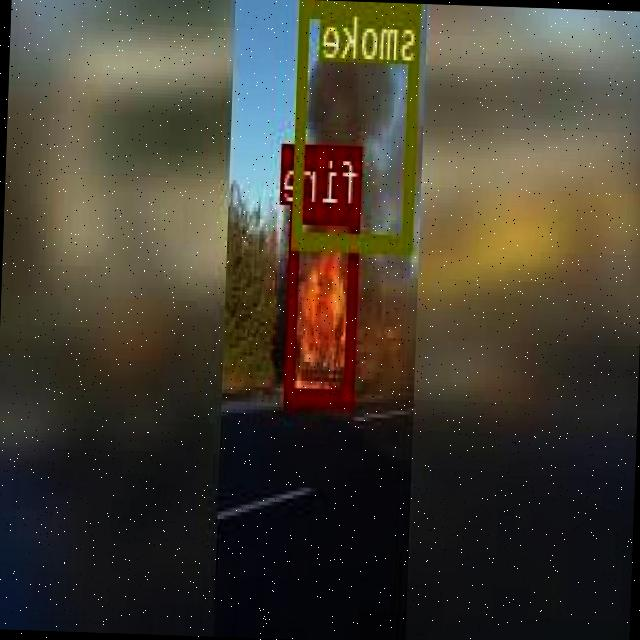fire: (286, 204, 362, 403)
smoke: (292, 0, 421, 251)
